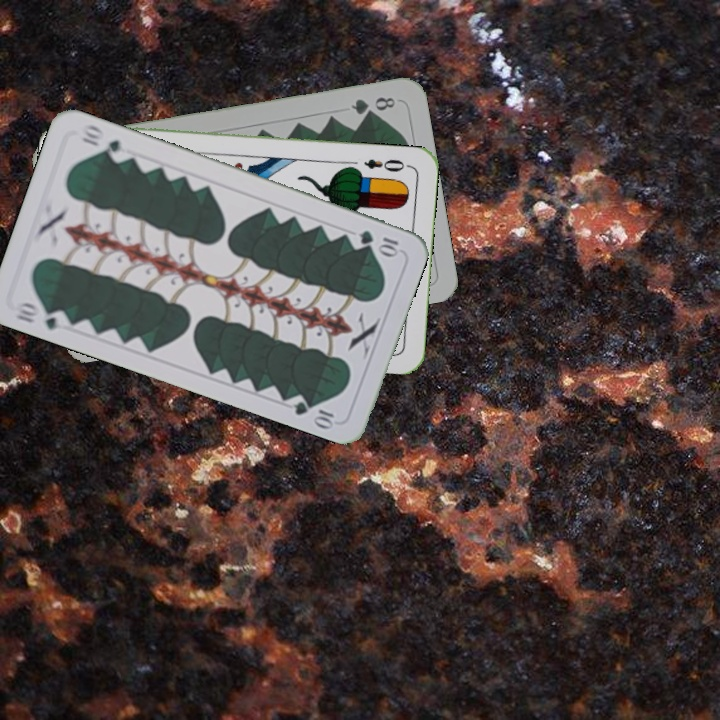EO: (360, 154, 412, 175)
G10: (11, 298, 71, 333), (355, 226, 401, 258)
G8: (347, 92, 398, 118)
